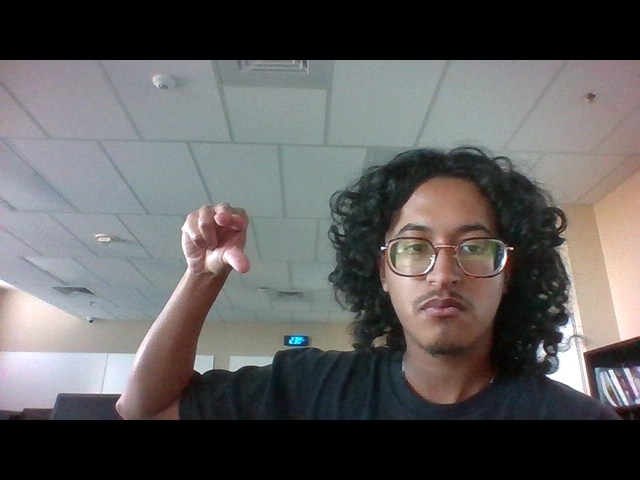no: (175, 192, 263, 292)
